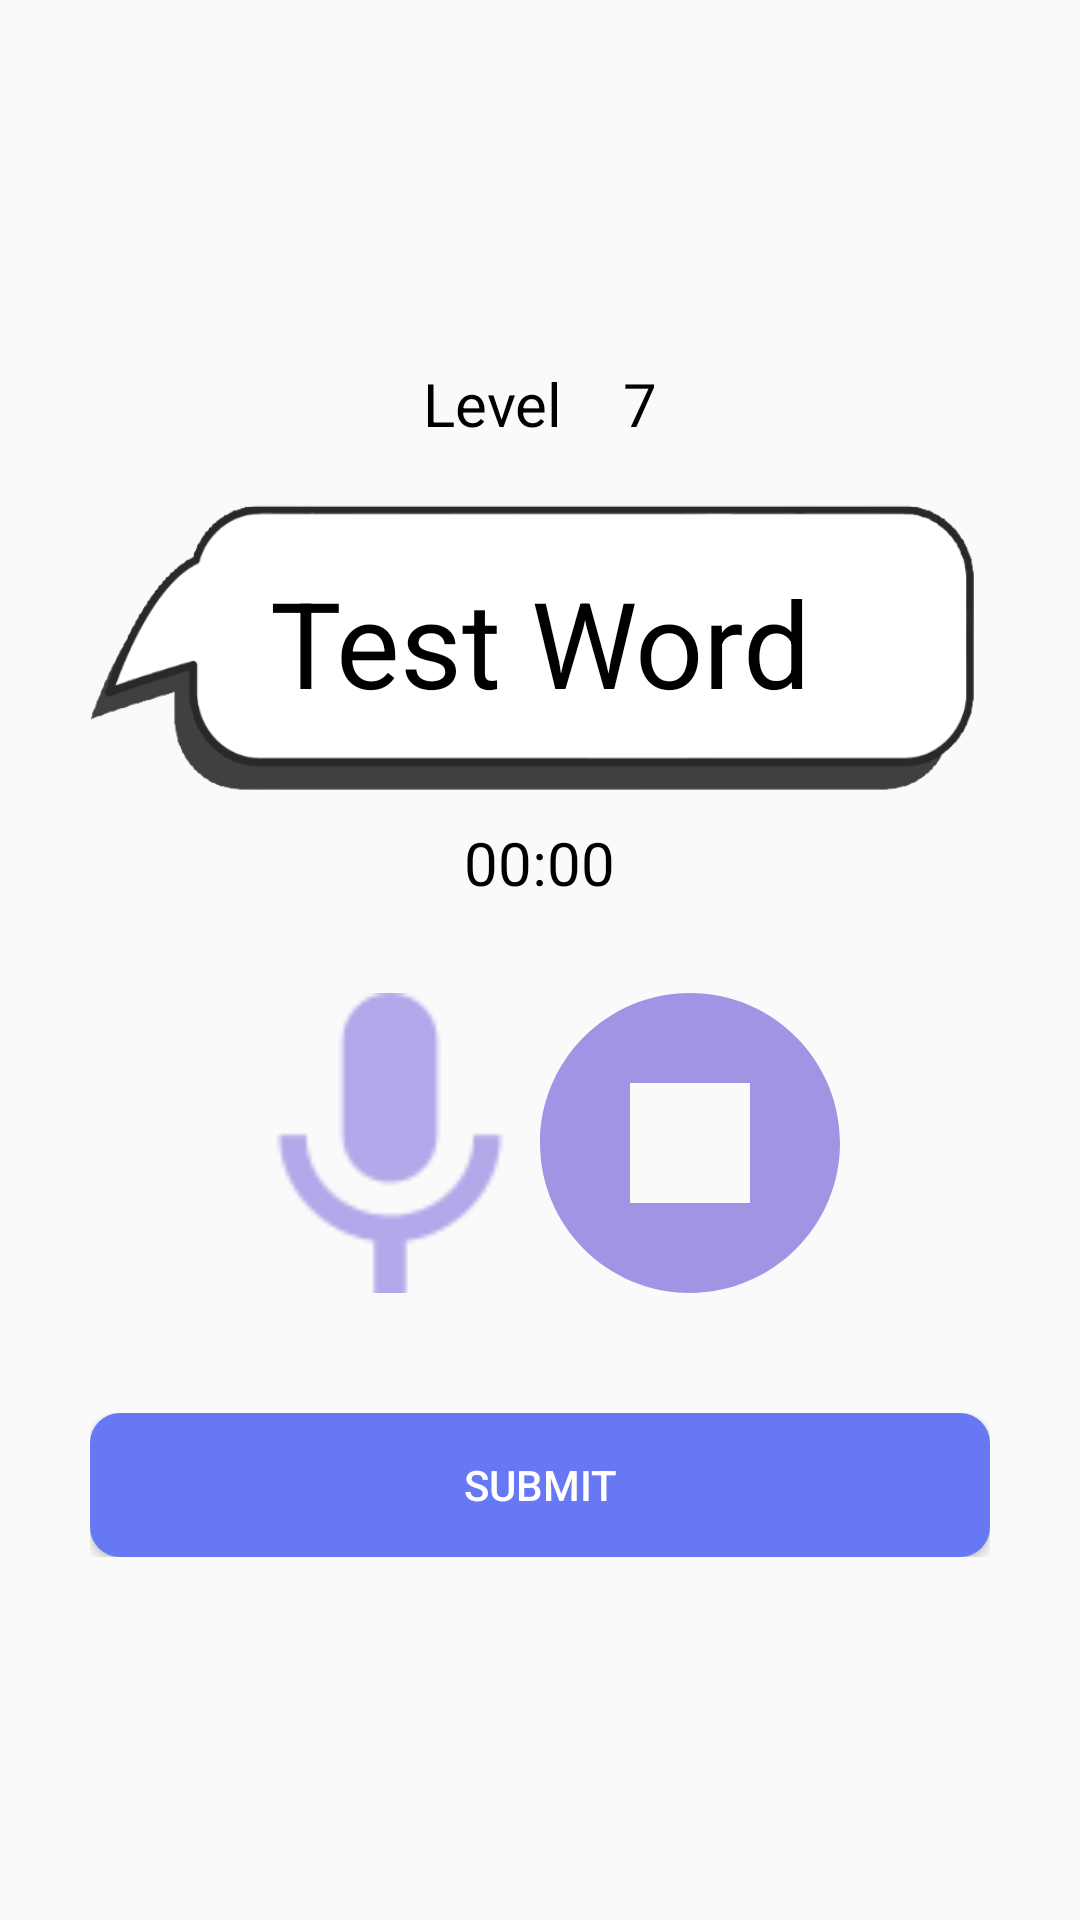

Icons on this 1080*1920 Android screen, each with the point to tap as (x,y):
audio: (390,1143)
stop: (690,1143)
